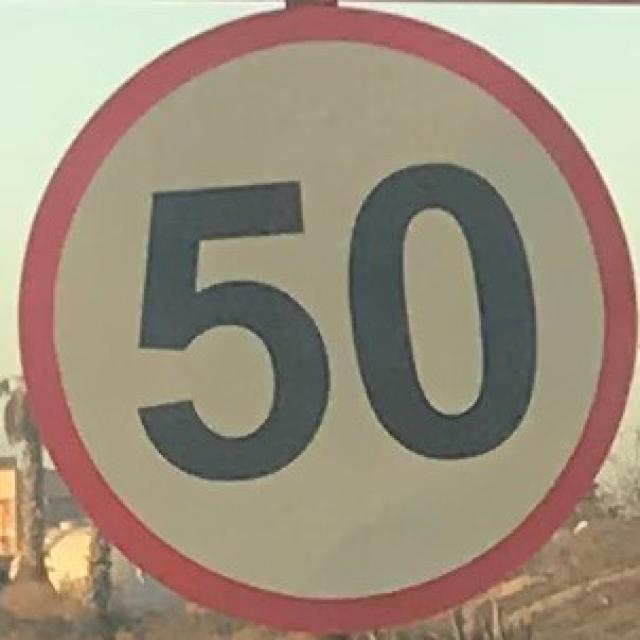Limite-50: (16, 2, 640, 634)
